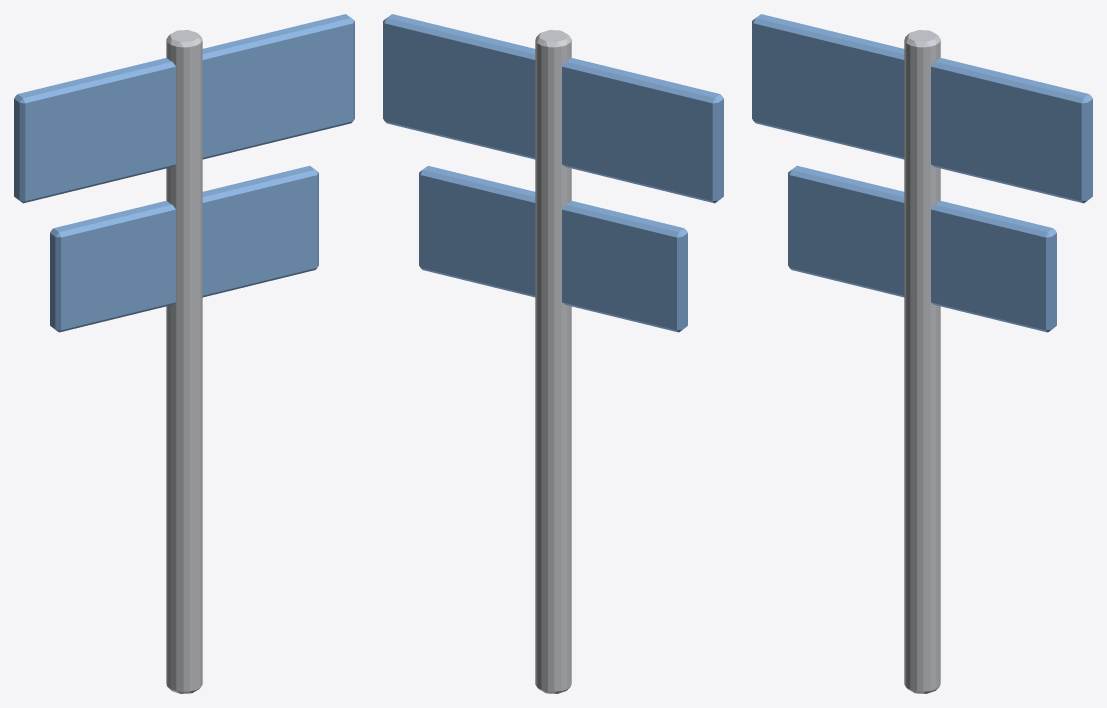
Rendered from 街道_导向牌_01.fbx.
3 views of the same model, side by side, from view 1: azimuth 30°, elevation 25°; view 2: azimuth 150°, elevation 25°; view 3: azimuth 330°, elevation 25° (orthographic).
Visible parts, largest first — view 1: 上牌, 下牌, 立杆.001; view 2: 上牌, 下牌, 立杆.001; view 3: 上牌, 下牌, 立杆.001.
Boxes of the visible parts, box(x1,y1,x2,y2) form: 上牌: box(14, 14, 354, 203); 下牌: box(50, 165, 318, 332); 立杆.001: box(166, 30, 202, 693); 上牌: box(383, 14, 723, 203); 下牌: box(419, 165, 687, 332); 立杆.001: box(535, 30, 571, 693); 上牌: box(752, 14, 1092, 203); 下牌: box(788, 165, 1056, 332); 立杆.001: box(904, 30, 940, 693).
Bounding box in the file's own units: 140 × 260 × 12.85.
